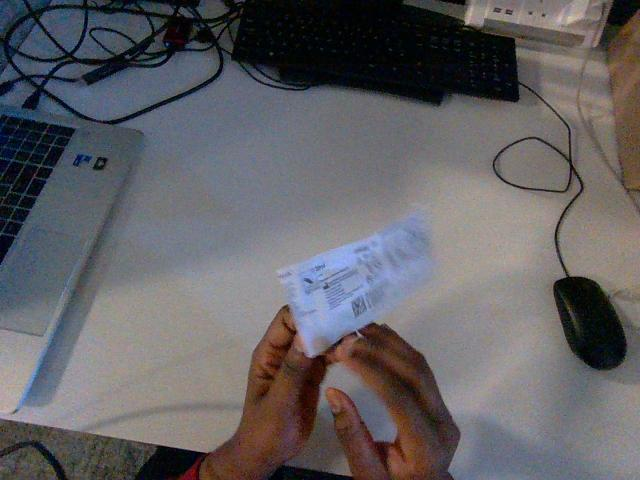syringe: (277, 213, 433, 356)
